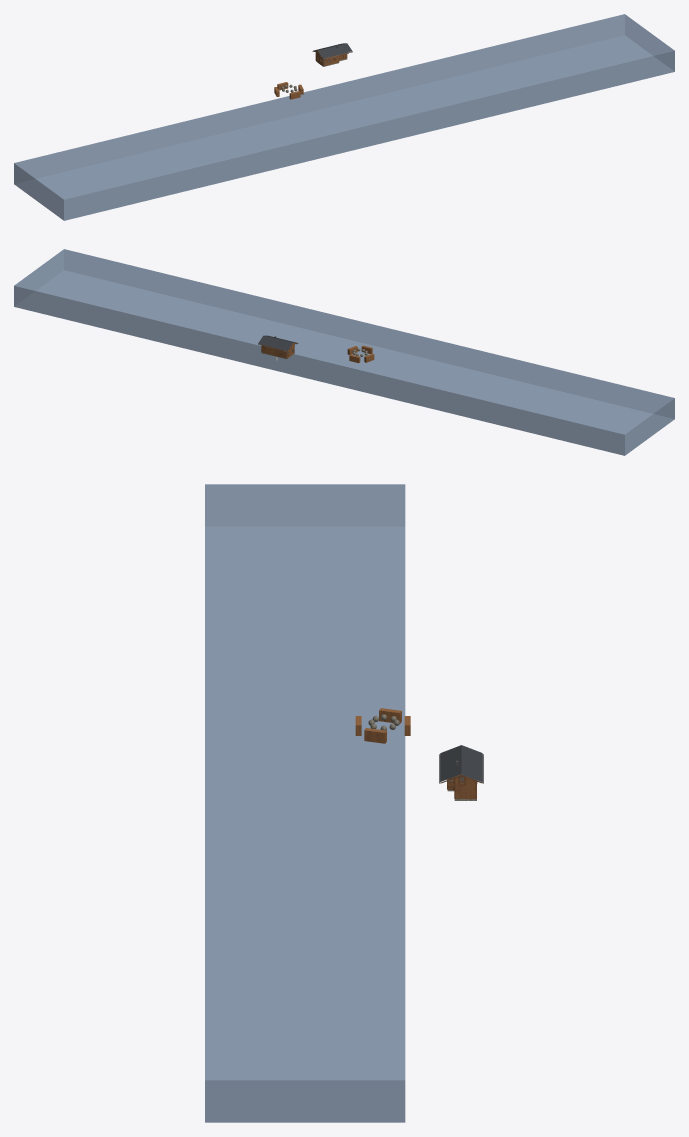
Rendered from chata.glb.
3 views of the same model, one above another, from view 1: azimuth 30°, elevation 25°; view 2: azimuth 150°, elevation 25°; view 3: azimuth 270°, elevation 25° (orthographic). The views are drawn at different scales.
Visible parts, largest first — view 1: Plane.050, Plane.039; view 2: Plane.050, Plane.039; view 3: Plane.050, Plane.039.
Part boxes in pixels (bbox=[...]): Plane.050: bbox=[14, 14, 674, 220]; Plane.039: bbox=[313, 43, 352, 58]; Plane.050: bbox=[14, 249, 674, 455]; Plane.039: bbox=[258, 335, 297, 350]; Plane.050: bbox=[205, 484, 405, 1122]; Plane.039: bbox=[440, 745, 482, 782].
Size of the model in its own units: 238 by 17.47 by 47.06.
Materials: 10 (5 with a texture image).
